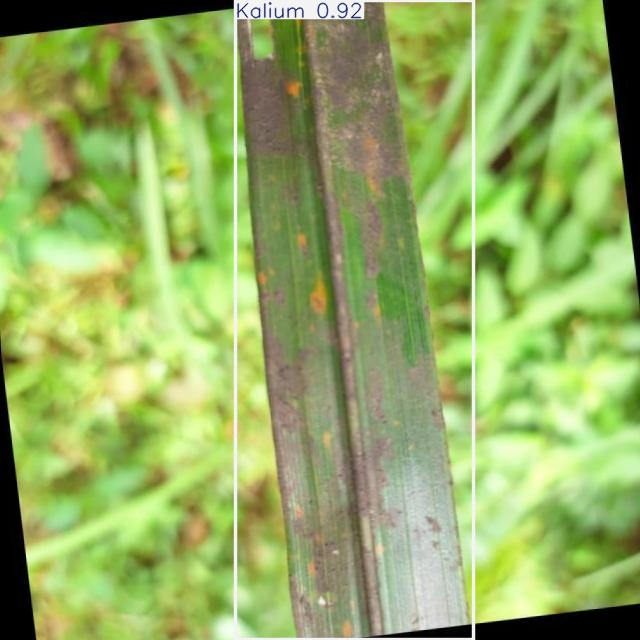Kalium: (236, 0, 474, 640)
